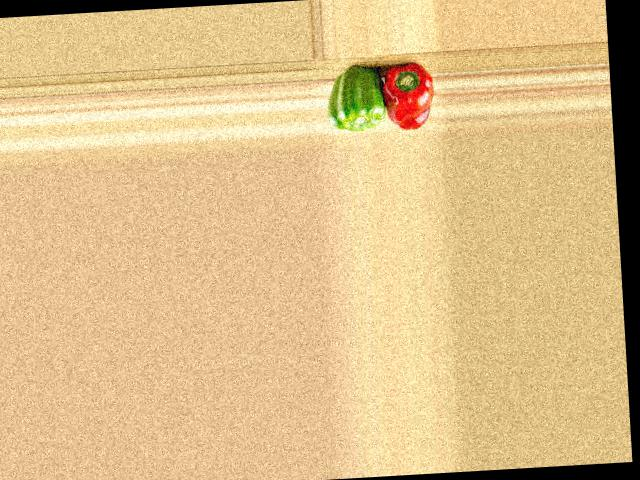bell_pepper: (379, 62, 437, 131)
